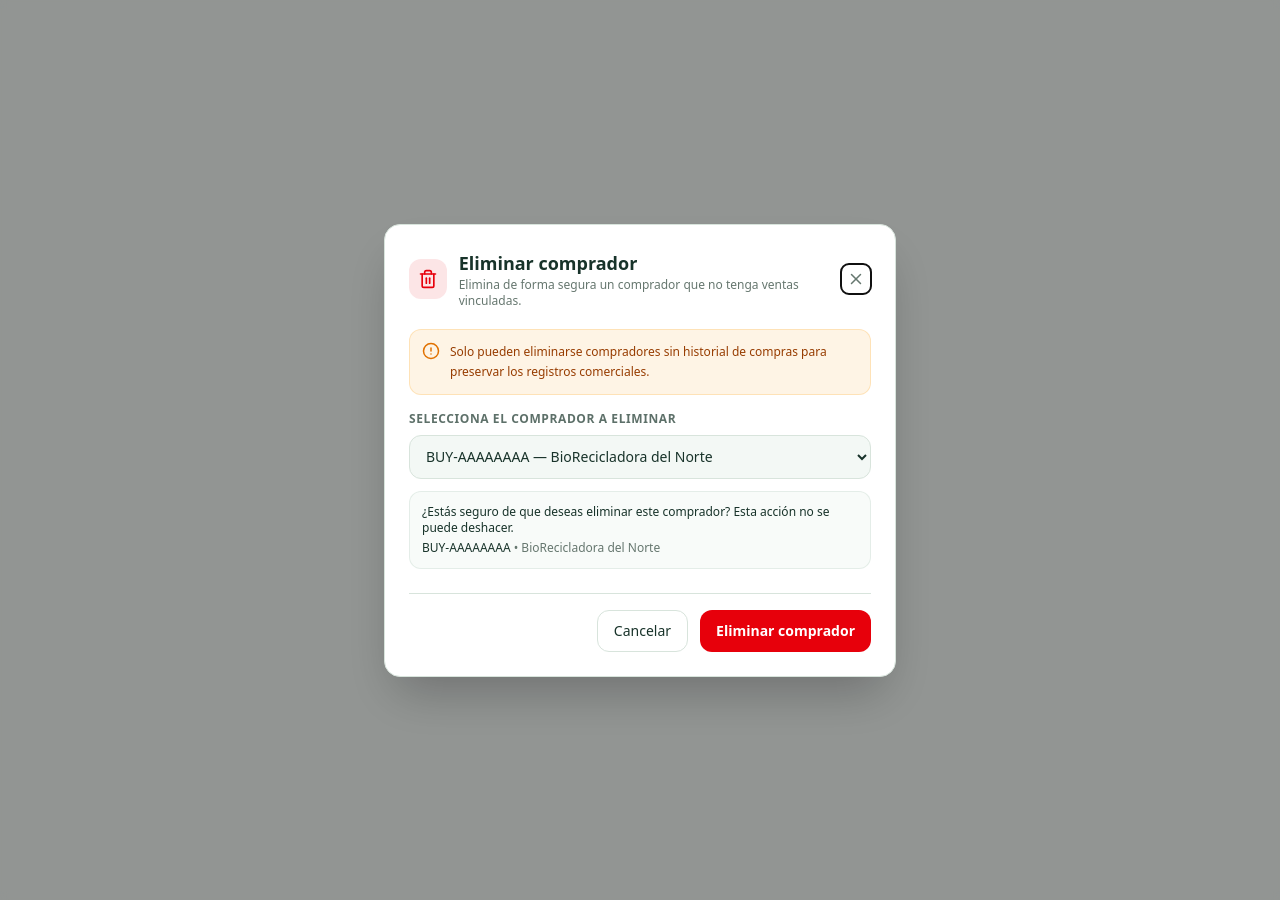
Test case: DeleteBuyerModal Component - Eliminación Segura de Compradores › 3. Permite seleccionar un comprador diferente y actualiza la confirmación visual
The image size is (1280, 900).
Select "BUY-CCCCCCCC — Composteras Verdes S.A.S." in the dropdown with test id "delete-buyer-select" at (640, 456), box [409,434,871,478]
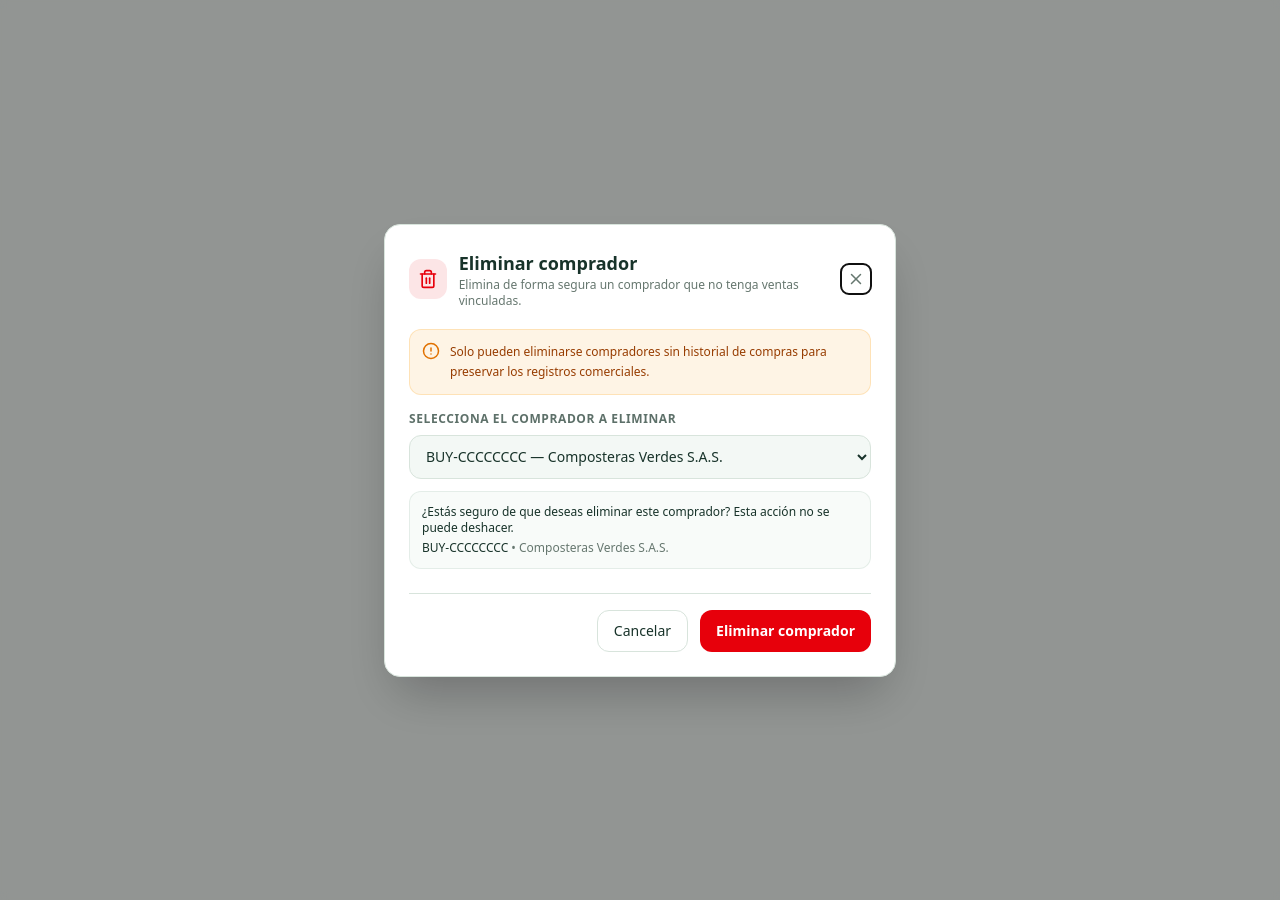
Expected: the text "Composteras Verdes S.A.S." is shown, [519,538,669,556]
